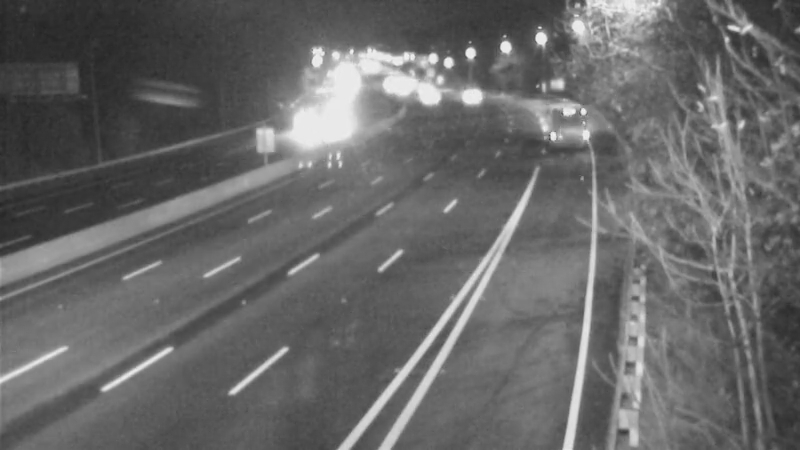vehicle: (441, 70, 491, 120), (403, 71, 453, 121), (531, 92, 581, 142), (278, 99, 328, 149)
